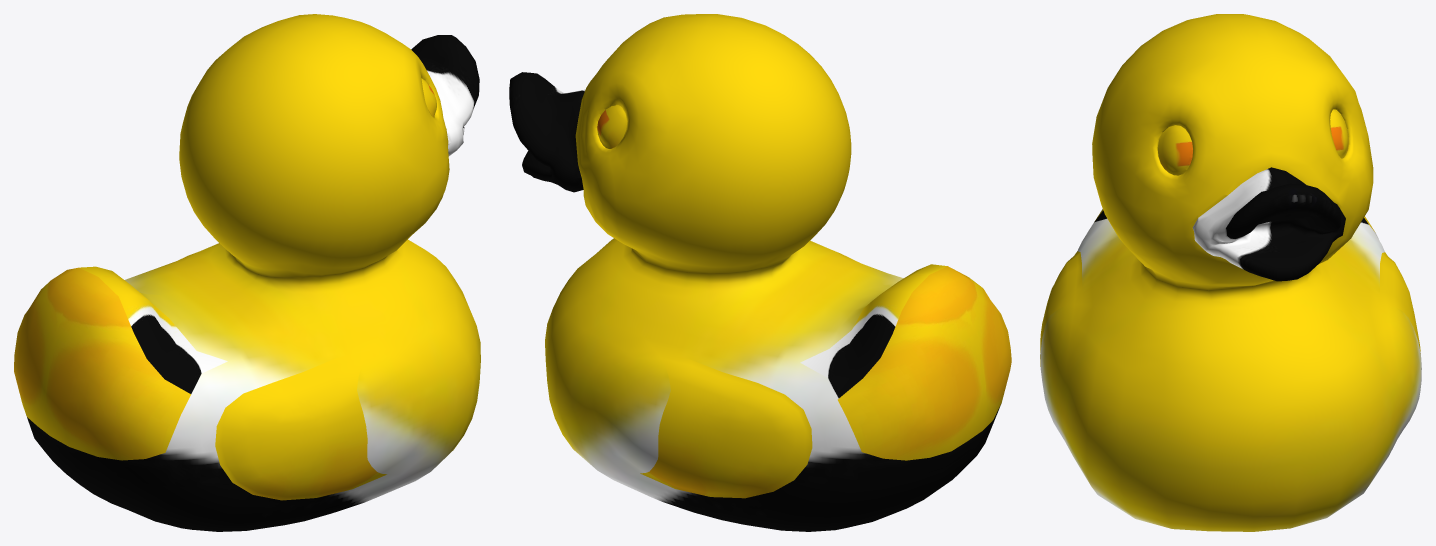
File: duck_triangulate.dae
3 renders of one model, left to right at view 1: azimuth 30°, elevation 25°; view 2: azimuth 150°, elevation 25°; view 3: azimuth 270°, elevation 25°, orthographic. The views are drawn at different scales.
Visible parts, largest first — view 1: LOD3sp; view 2: LOD3sp; view 3: LOD3sp.
Boxes of the visible parts, x1,y1,x2,y2 form: LOD3sp: (14,14,480,531); LOD3sp: (509,14,1011,531); LOD3sp: (1040,14,1421,531).
Size of the model in its own units: 165 by 154 by 115.
